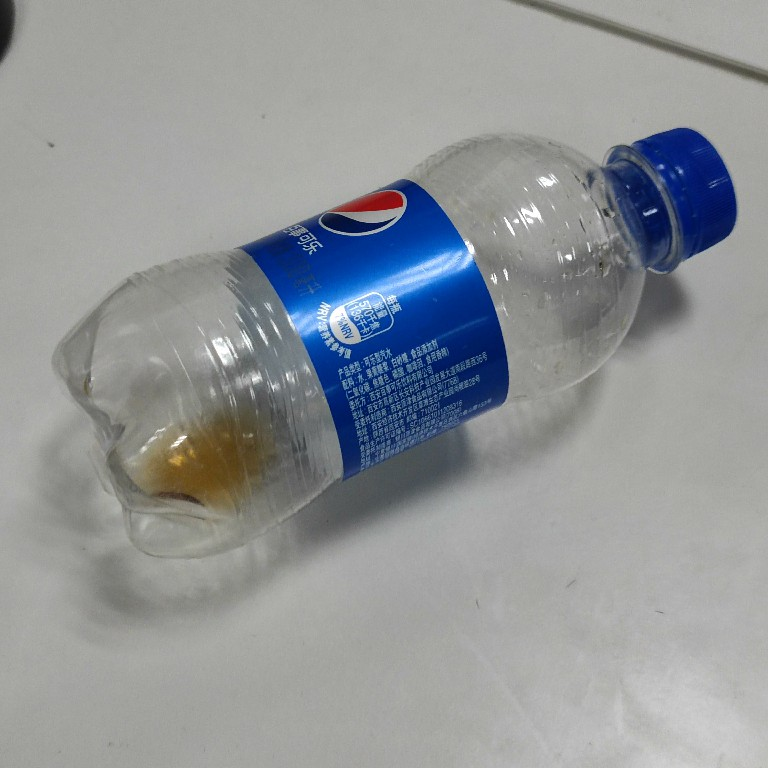bottle: (43, 124, 742, 569)
